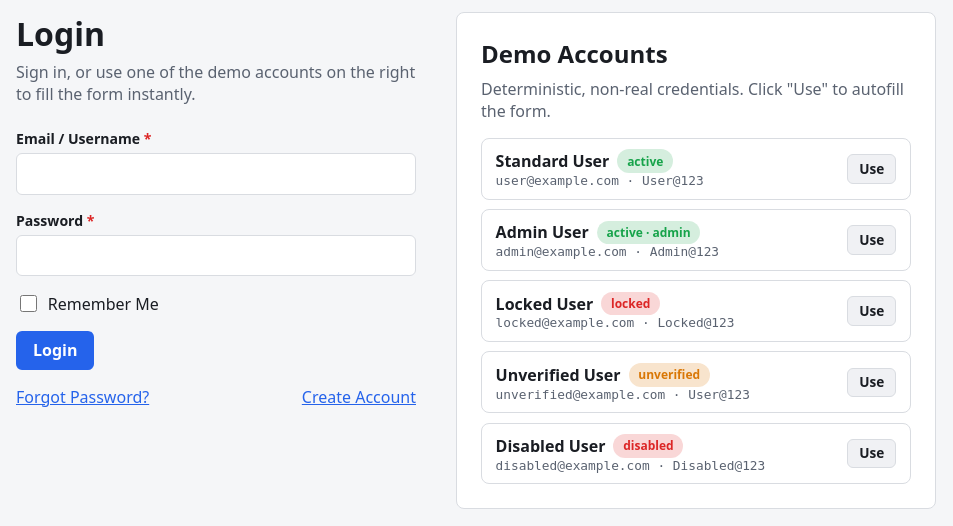
Test: LoginPage demo accounts panel › autofills the form when "Use" is clicked on the admin account
Click the button with test id "login-quickfill-adminuser".
click(872, 240)  # box x1=847 y1=225 x2=896 y2=255
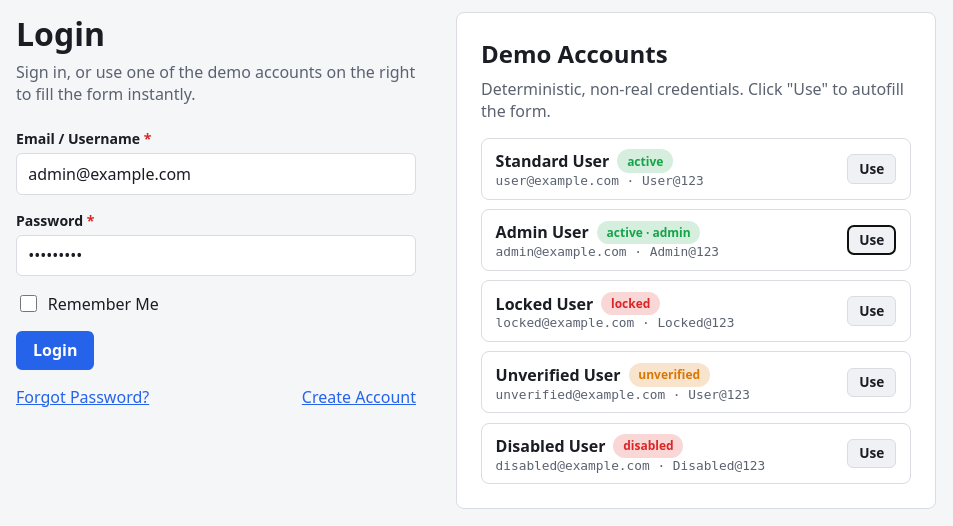
Expected: the field with test id "login-email" holds "admin@example.com", x1=16 y1=153 x2=416 y2=195
Expected: the password field with test id "login-password" holds "Admin@123", x1=16 y1=235 x2=416 y2=276
